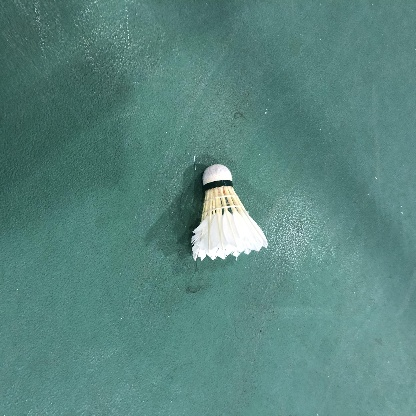ball_single: (191, 164, 268, 261)
